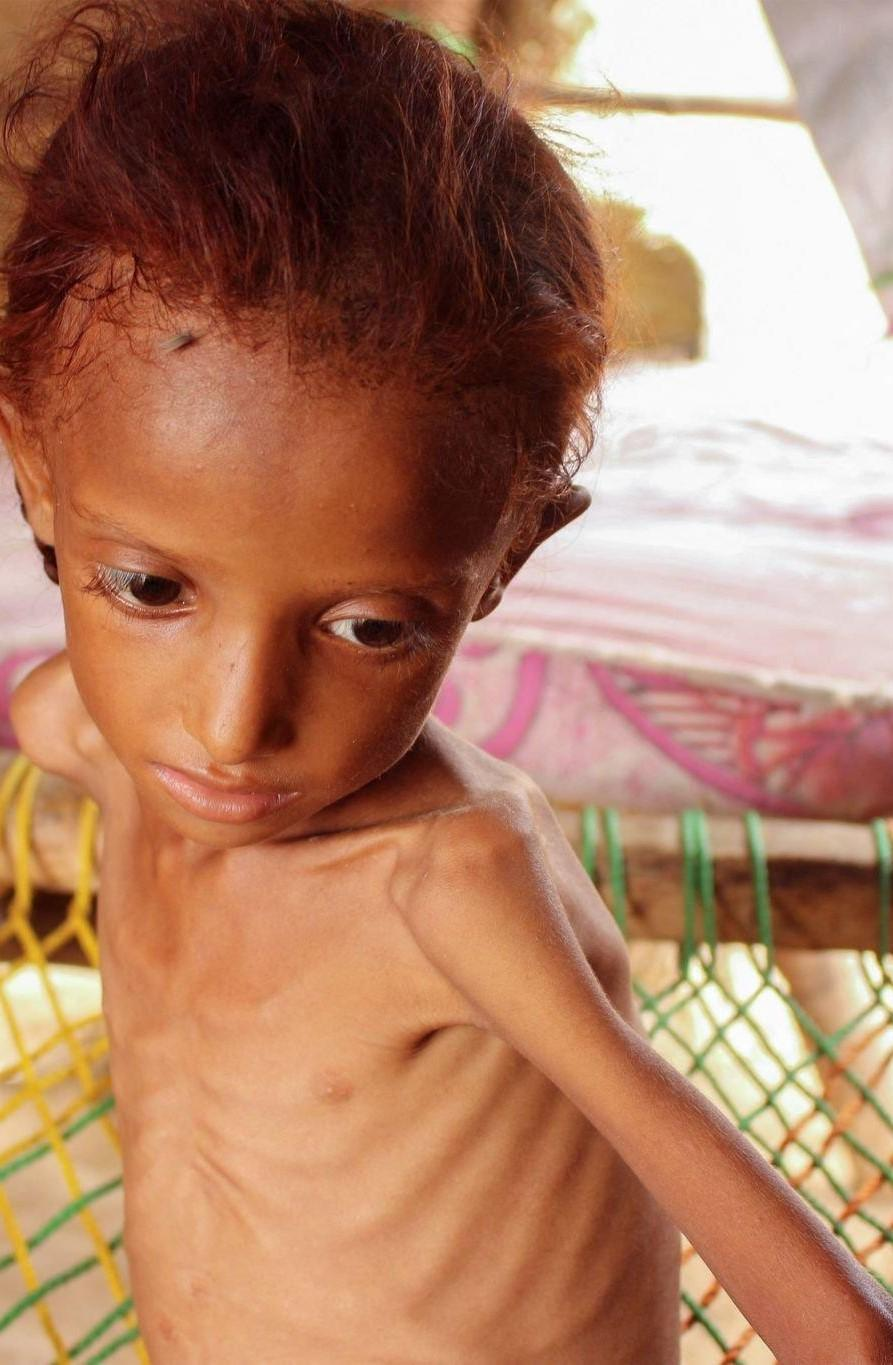Stunting: (3, 57, 583, 900)
